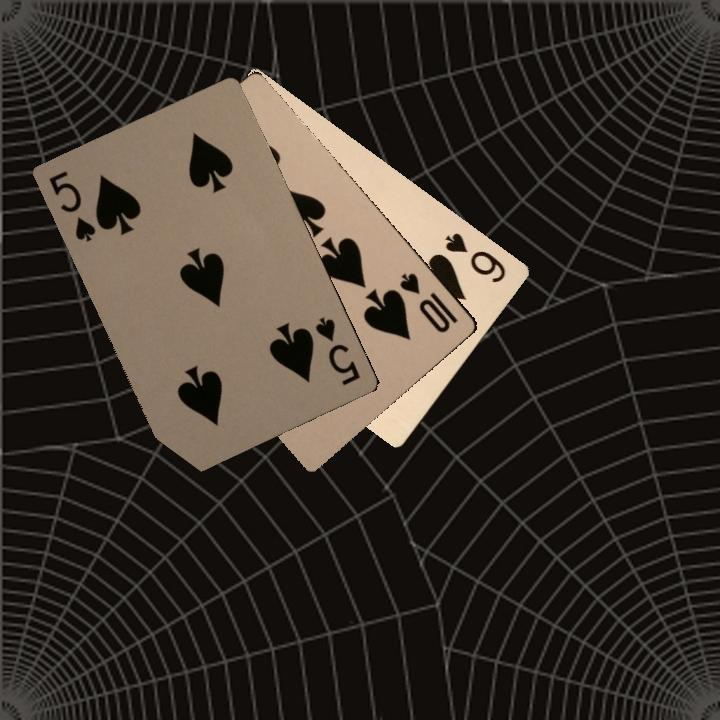10s: (395, 268, 460, 336)
5s: (44, 166, 99, 245), (311, 313, 363, 388)
6s: (441, 228, 509, 286)
